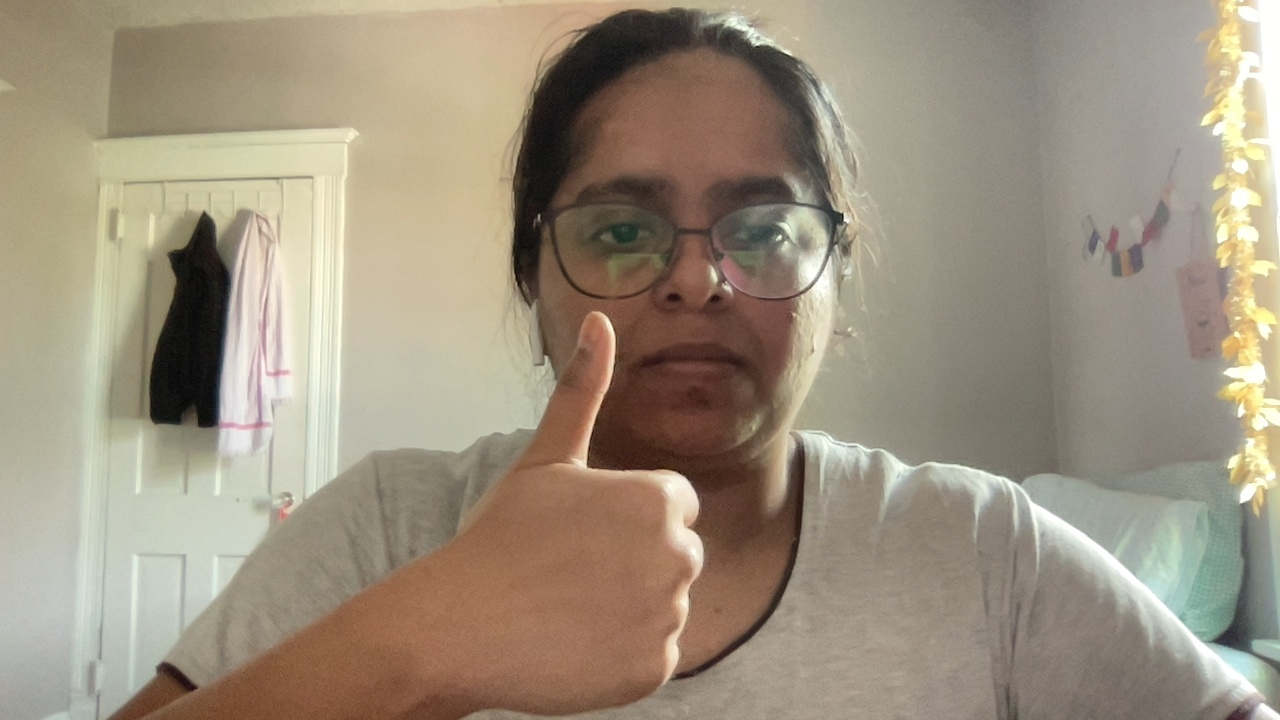ThumbsUp: (479, 310, 706, 710)
